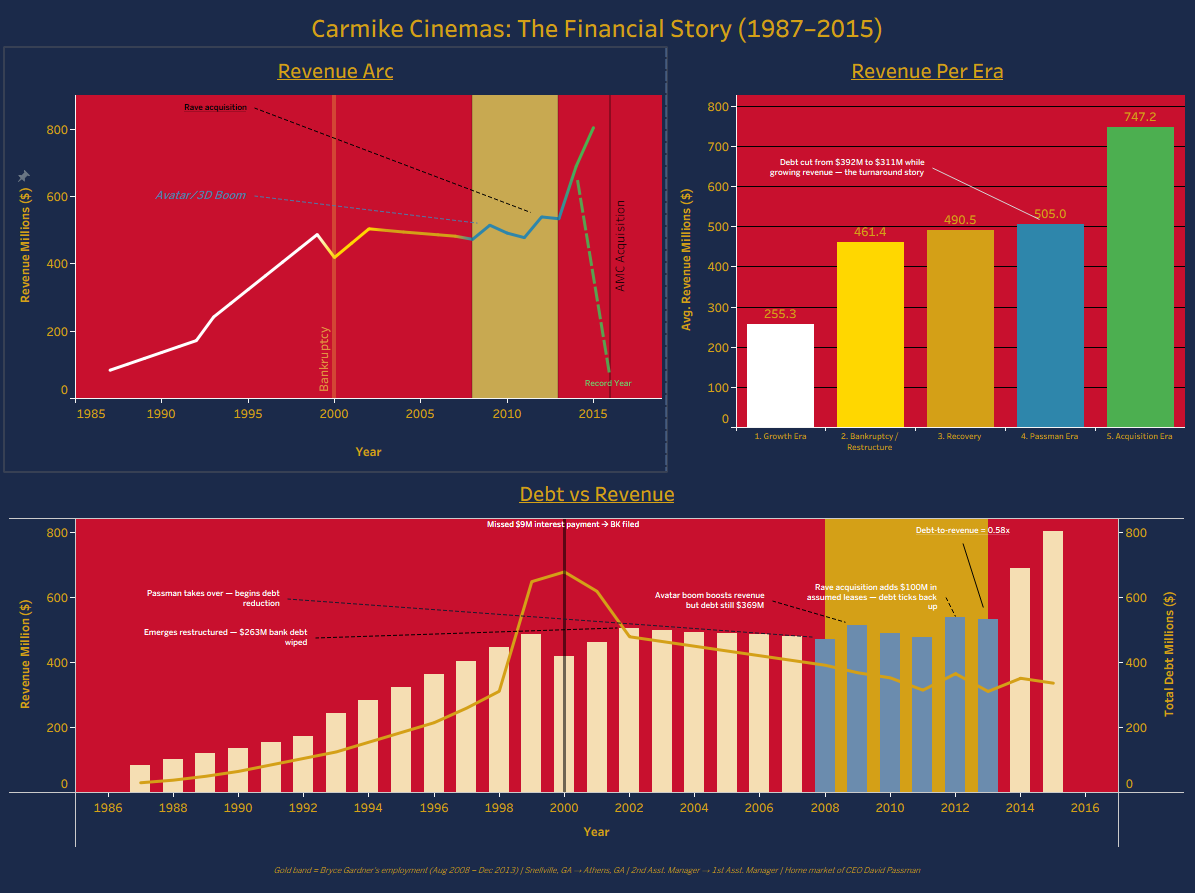

The dashboard page shown, as its layout file describes it:
{"tool":"tableau","page":{"name":"Carmike Cinemas: The Financial Story (1987–2015)","canvas":[1000,1000],"units":"permille","ordinal":0},"visuals":[{"type":"title","box":[6.7,8.9,986.7,45.7]},{"type":"worksheet","title":"Revenue Arc","mark":"Automatic","rows":["revenue_mil"],"cols":["year"],"box":[6.7,54.6,550.8,472.1]},{"type":"worksheet","title":"Revenue Per Era","mark":"Bar","rows":["revenue_mil"],"cols":["company_era"],"box":[557.5,54.6,435.8,472.1]},{"type":"worksheet","title":"Debt vs Revenue","mark":"Bar","rows":["revenue_mil","total_debt_mil"],"cols":["year"],"box":[6.7,526.7,986.7,424.6]},{"type":"text","box":[6.7,951.3,986.7,39.8]}]}

Visuals, with their boxes on the dashboard's canvas, which has no fixed pixel size, in thousandths of its width and height (x1, y1, x2, y2). These are canvas units, not pixel positions in the 1195x893 screenshot, which may show the page scaled, cropped or inside an application window:
title: pyautogui.locateOnScreen(7, 9, 993, 55)
"Revenue Arc" worksheet: pyautogui.locateOnScreen(7, 55, 558, 527)
"Revenue Per Era" worksheet (Bar marks): pyautogui.locateOnScreen(558, 55, 993, 527)
"Debt vs Revenue" worksheet (Bar marks): pyautogui.locateOnScreen(7, 527, 993, 951)
text: pyautogui.locateOnScreen(7, 951, 993, 991)
